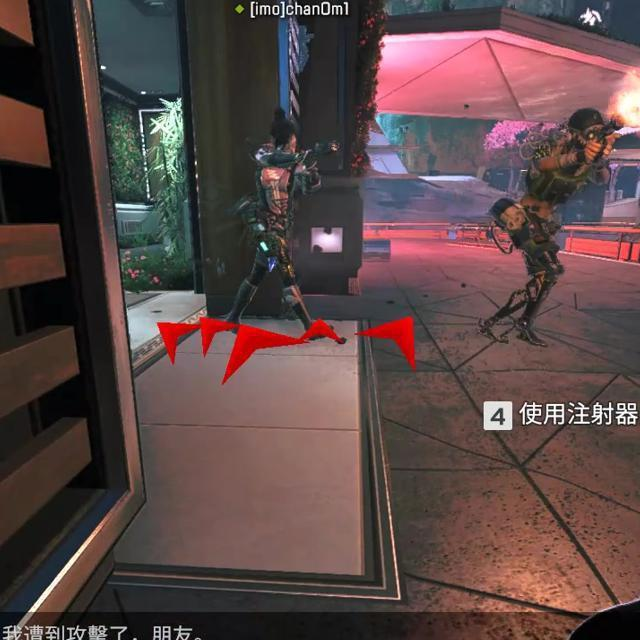avatar: (487, 105, 615, 351), (236, 108, 323, 331)
